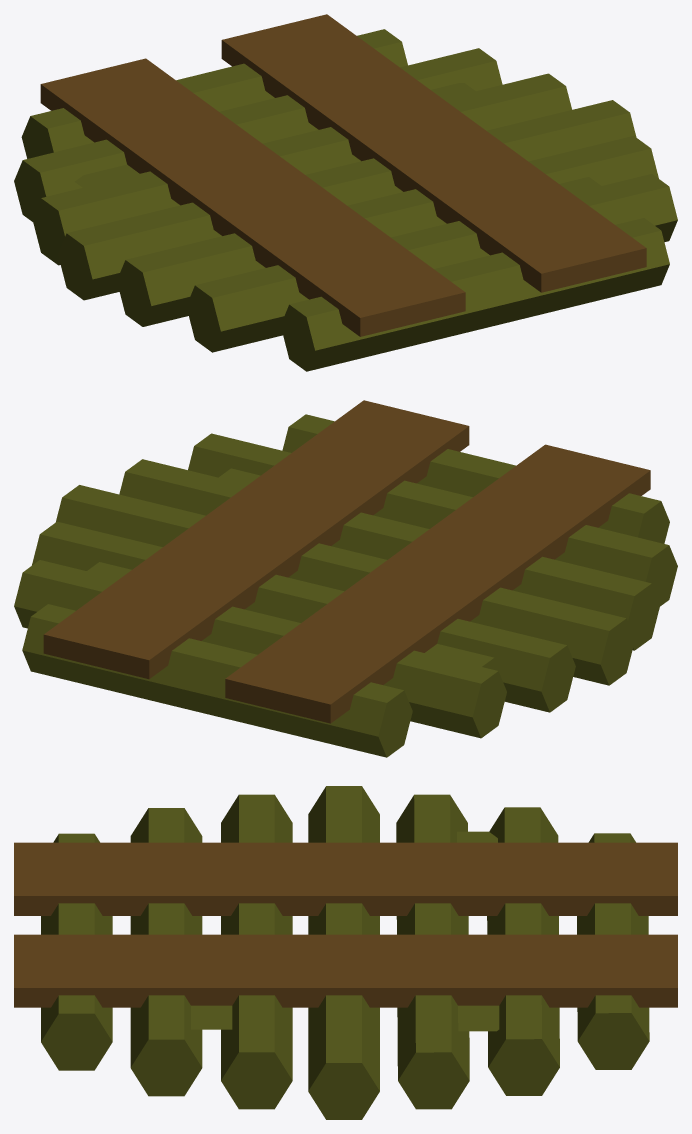
Rendered from PotLid.fbx.
3 views of the same model, one above another, from view 1: azimuth 30°, elevation 25°; view 2: azimuth 150°, elevation 25°; view 3: azimuth 270°, elevation 25° (orthographic). The views are drawn at different scales.
Visible parts, largest first — view 1: Cylinder.031; view 2: Cylinder.031; view 3: Cylinder.031.
Part boxes in pixels (<box>): Cylinder.031: <box>14,14,677,371</box>; Cylinder.031: <box>14,400,677,757</box>; Cylinder.031: <box>14,786,677,1119</box>.
Bounding box in the file's own units: 200 × 197 × 21.32.
